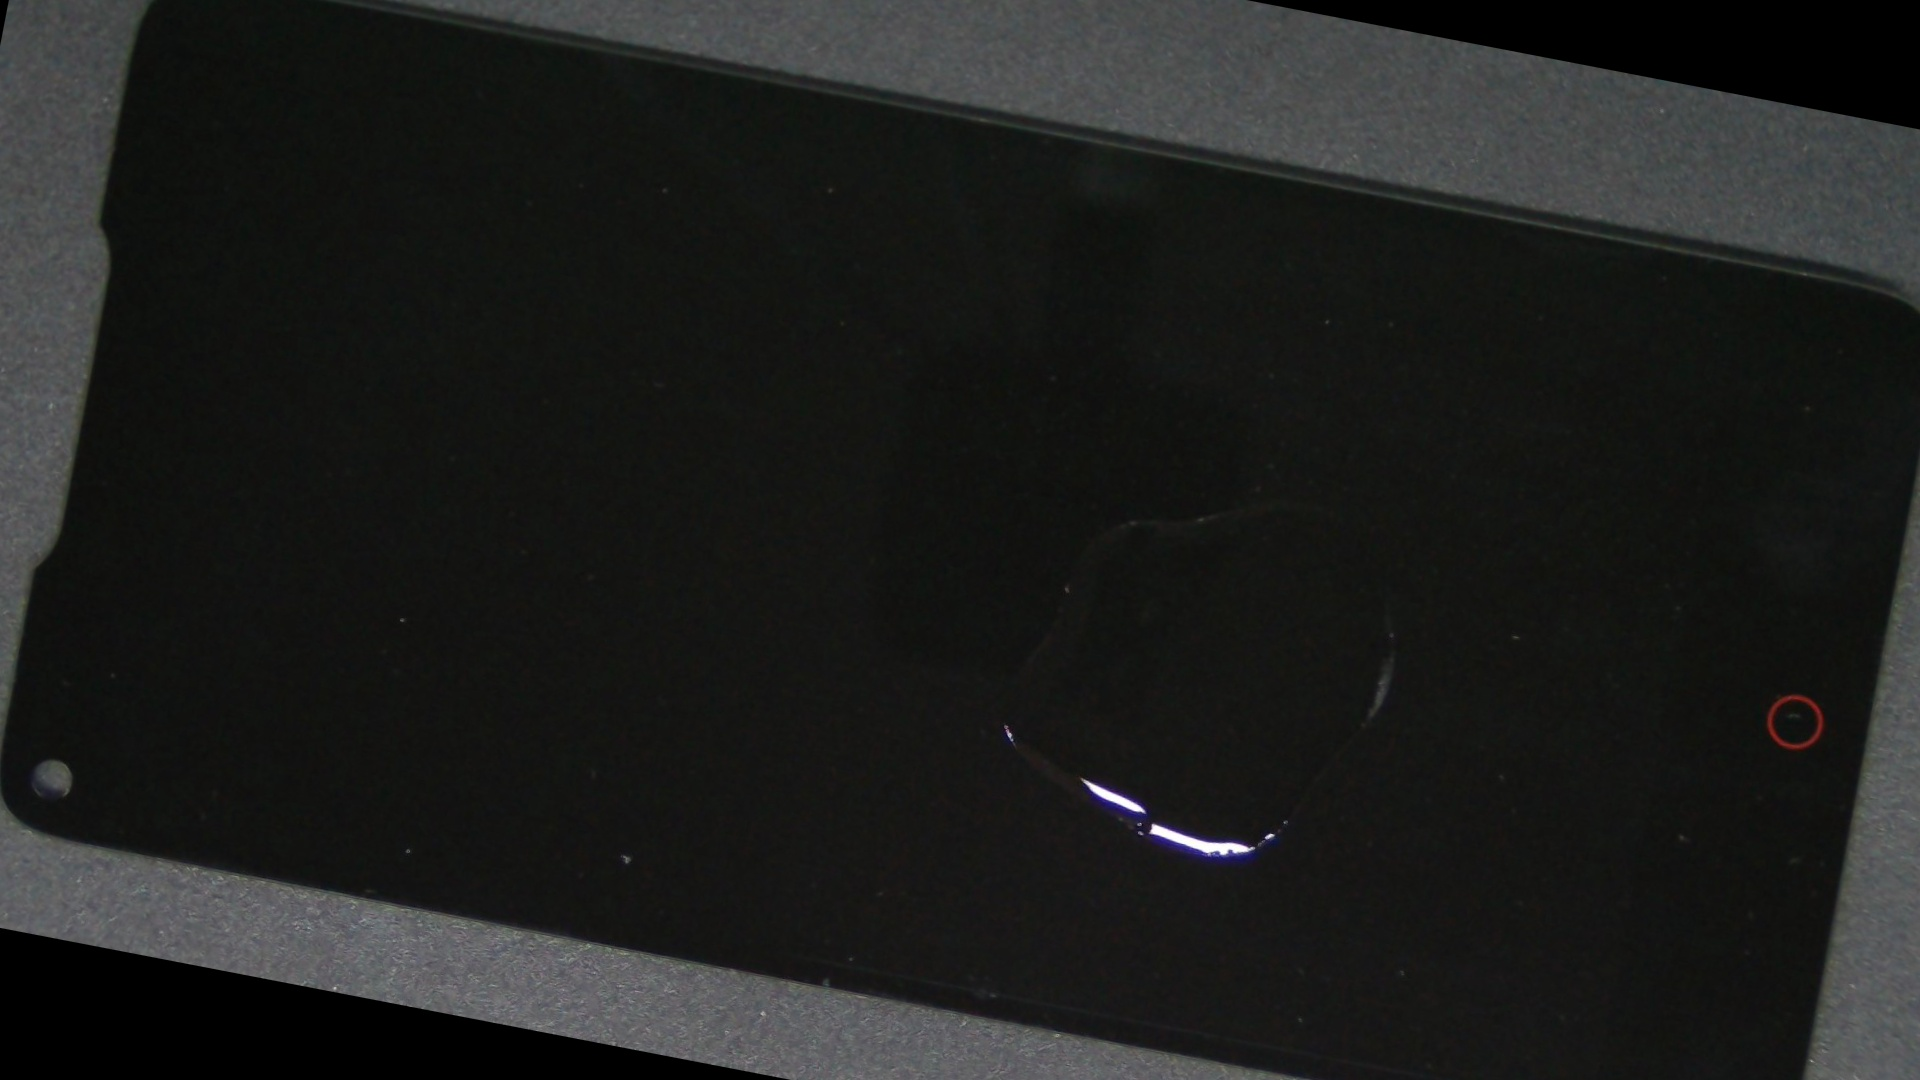oil: (580, 136, 1920, 866)
